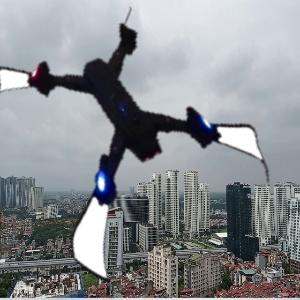drone: (15, 11, 265, 261)
